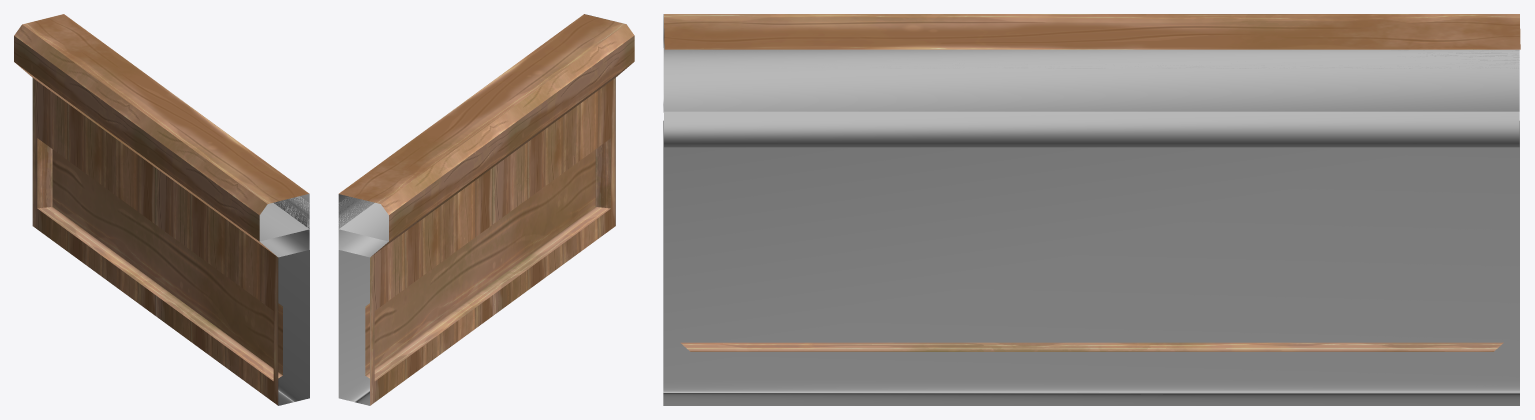
Rendered from SM_Door_Decoration_02.gltf.
3 renders of one model, left to right at view 1: azimuth 30°, elevation 25°; view 2: azimuth 150°, elevation 25°; view 3: azimuth 270°, elevation 25°, orthographic. The views are drawn at different scales.
Parts seen in each view (by area): view 1: SM_Door_Decoration_02_LOD0, SM_Door_Decoration_02_ConvexHulls; view 2: SM_Door_Decoration_02_LOD0, SM_Door_Decoration_02_ConvexHulls; view 3: SM_Door_Decoration_02_ConvexHulls, SM_Door_Decoration_02_LOD0.
Boxes of the visible parts, x1,y1,x2,y2 form: SM_Door_Decoration_02_LOD0: [14, 14, 308, 405]; SM_Door_Decoration_02_ConvexHulls: [259, 193, 309, 405]; SM_Door_Decoration_02_LOD0: [339, 14, 634, 405]; SM_Door_Decoration_02_ConvexHulls: [338, 14, 627, 405]; SM_Door_Decoration_02_ConvexHulls: [663, 14, 1519, 405]; SM_Door_Decoration_02_LOD0: [664, 14, 1520, 351].
Size of what is drawn, in the model's own units: 0.2357 by 0.9174 by 2.
2 materials, 1 textured.
